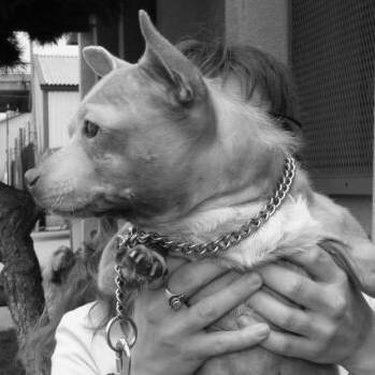dog: (22, 6, 370, 371)
